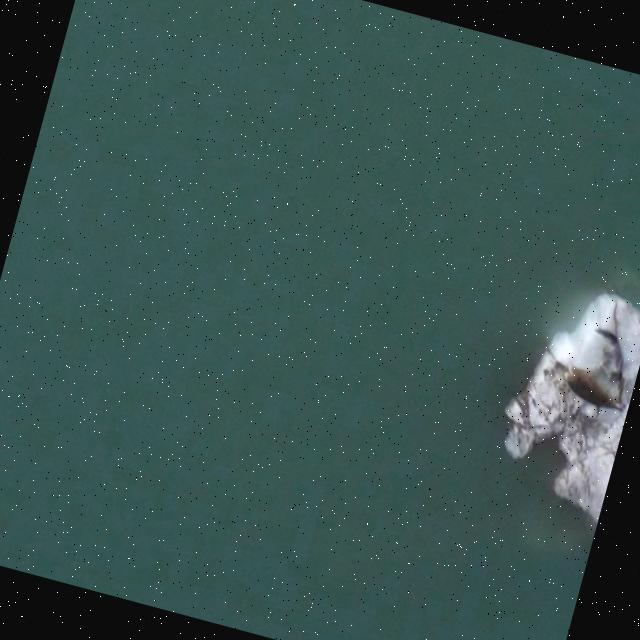seal: (563, 363, 617, 421)
